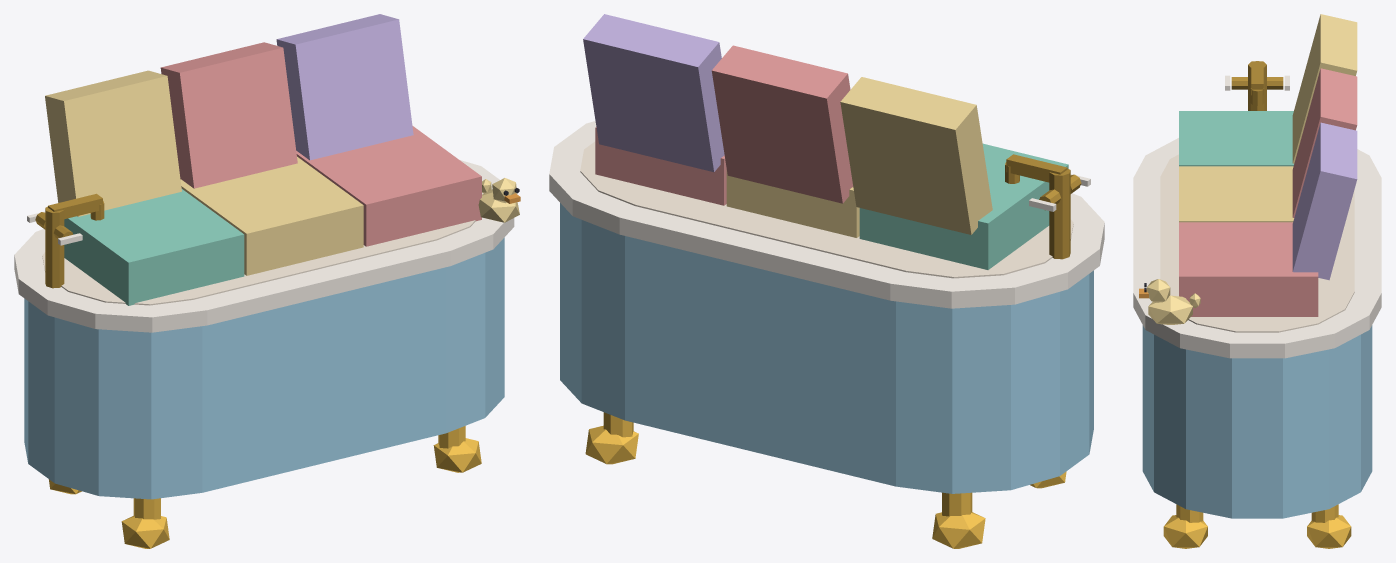
File: CatCafe_Decor_BathtubSofa.glb
3 renders of one model, left to right at view 1: azimuth 30°, elevation 25°; view 2: azimuth 150°, elevation 25°; view 3: azimuth 270°, elevation 25°, orthographic. The views are drawn at different scales.
Visible parts, largest first — view 1: CatCafe_Decor_BathtubSofa; view 2: CatCafe_Decor_BathtubSofa; view 3: CatCafe_Decor_BathtubSofa.
Boxes of the visible parts, box(x1,y1,x2,y2) form: CatCafe_Decor_BathtubSofa: box(14, 14, 520, 548); CatCafe_Decor_BathtubSofa: box(549, 14, 1104, 548); CatCafe_Decor_BathtubSofa: box(1133, 14, 1381, 548).
Bounding box in the file's own units: 3.79 × 3.13 × 1.84.
1 material, 1 textured.
